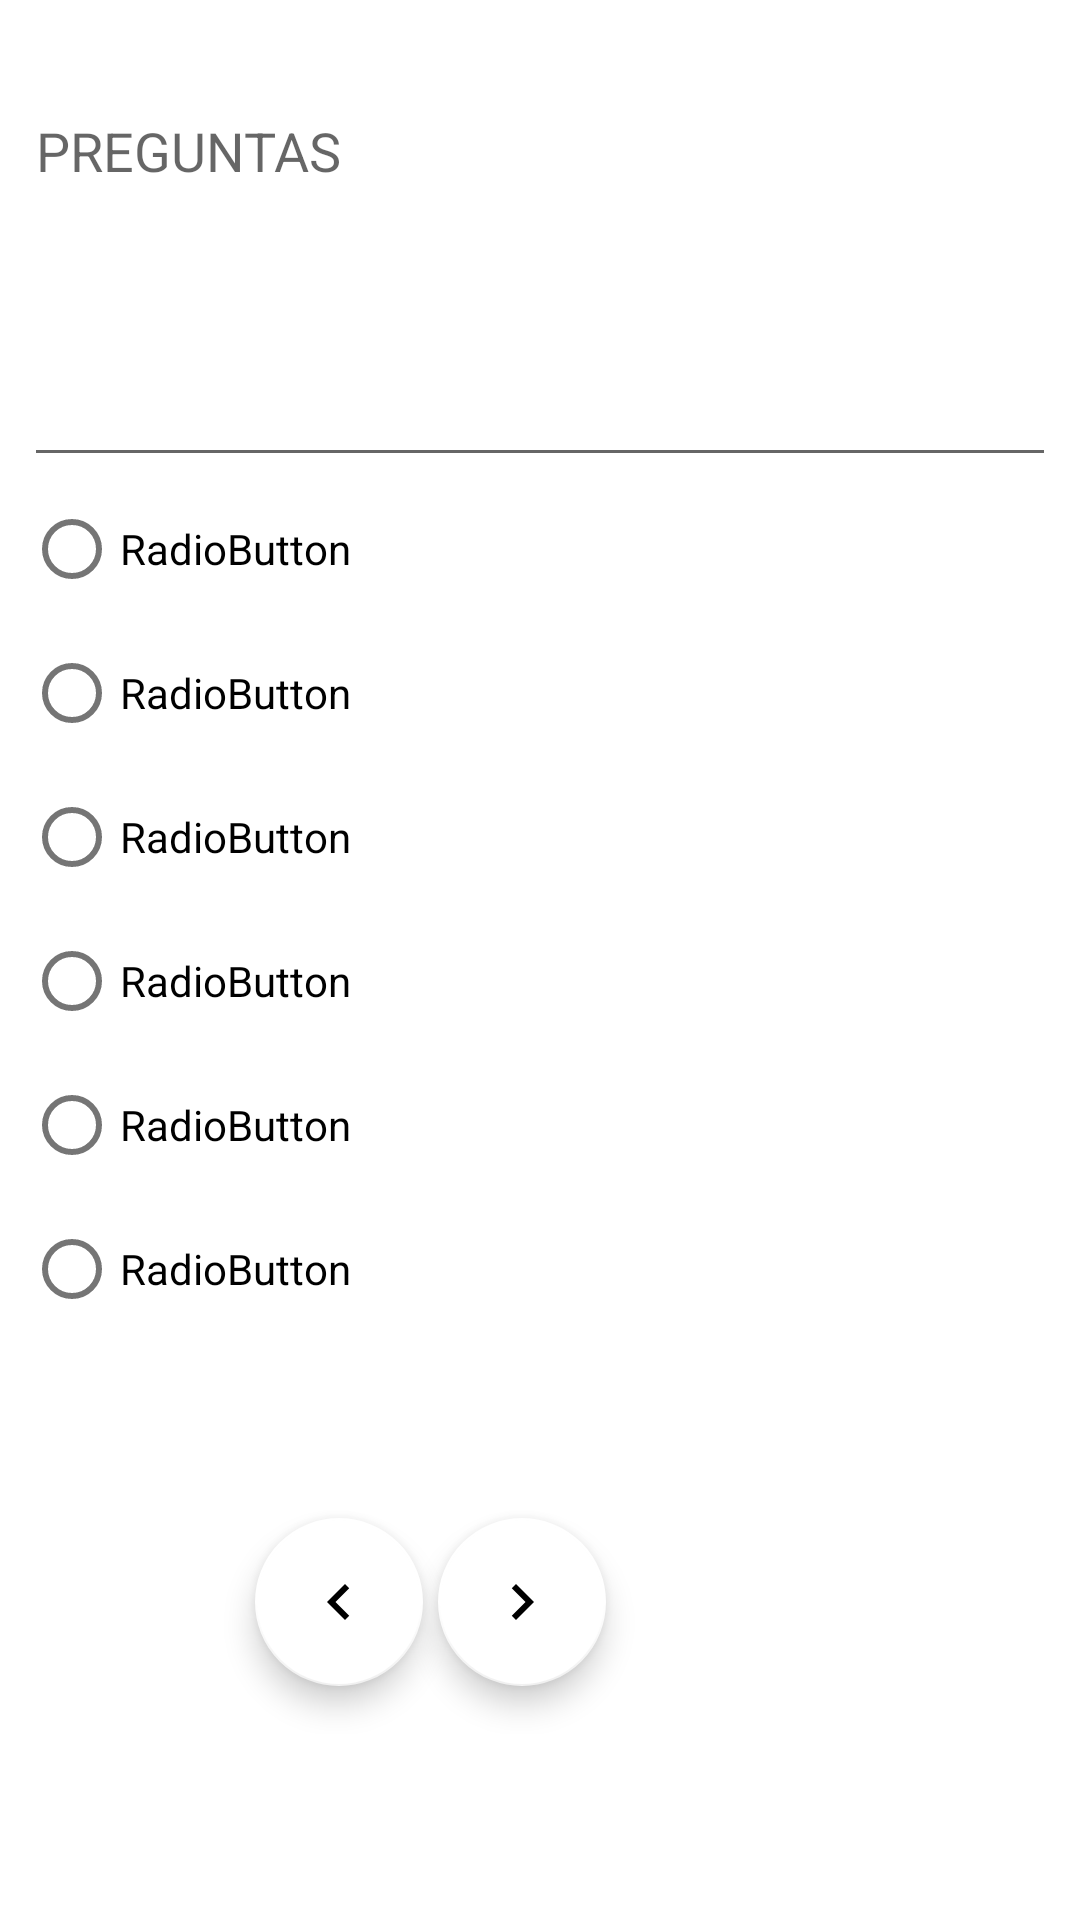

Icon bounding boxes for this 1080w x 1920h phone screenshot, format (x1, y1, x2, y2):
navigate before: (255, 1584, 423, 1686)
navigate next: (438, 1584, 606, 1686)
